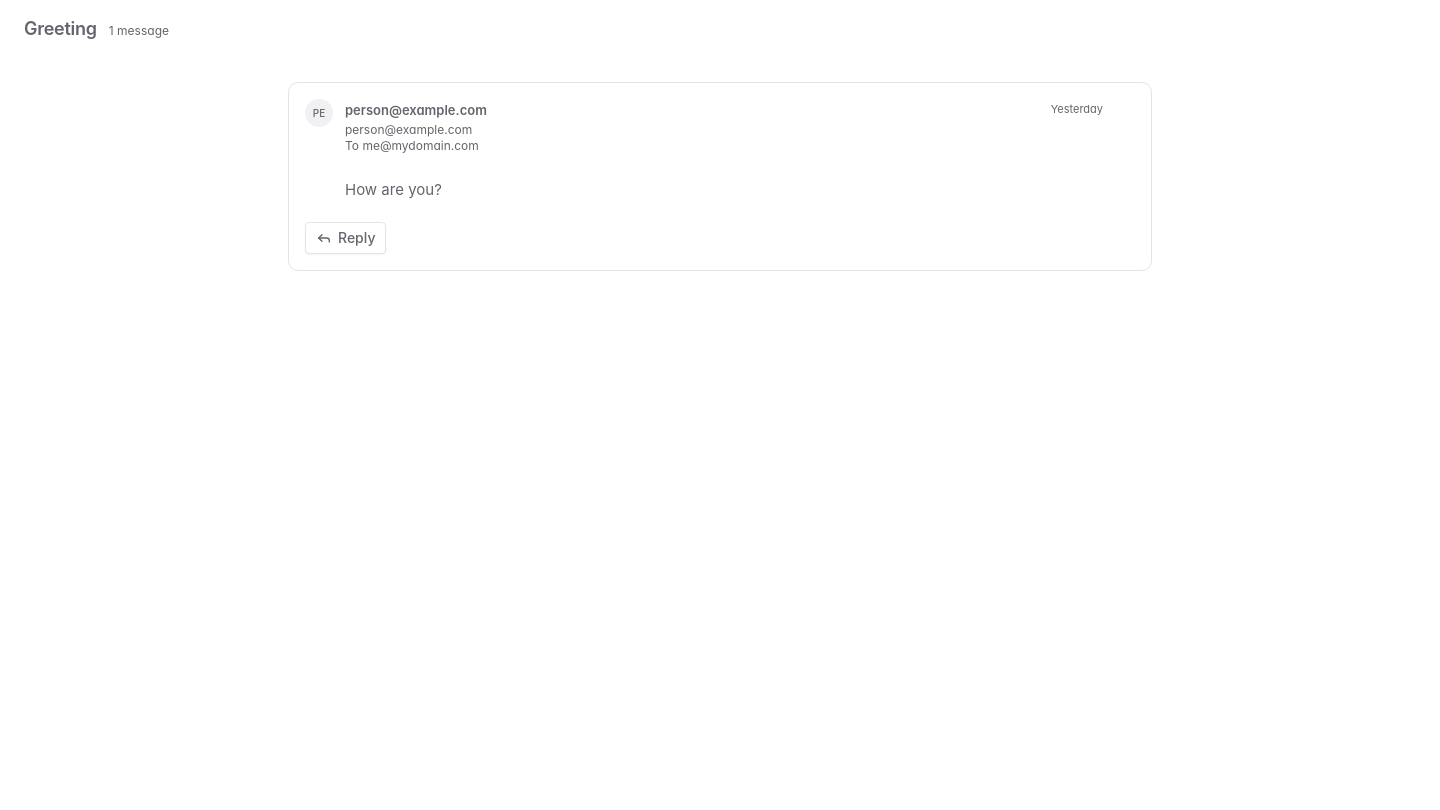
Test: conversation reading and replying › replies inline, sends threading headers, and returns the sent message to the same conversation
Later steps or results of the test are not shown.
Check: the text "How are you?" is shown, box [345,180,442,199]
Click the button "Reply" at (346, 238), box [305,222,386,254]
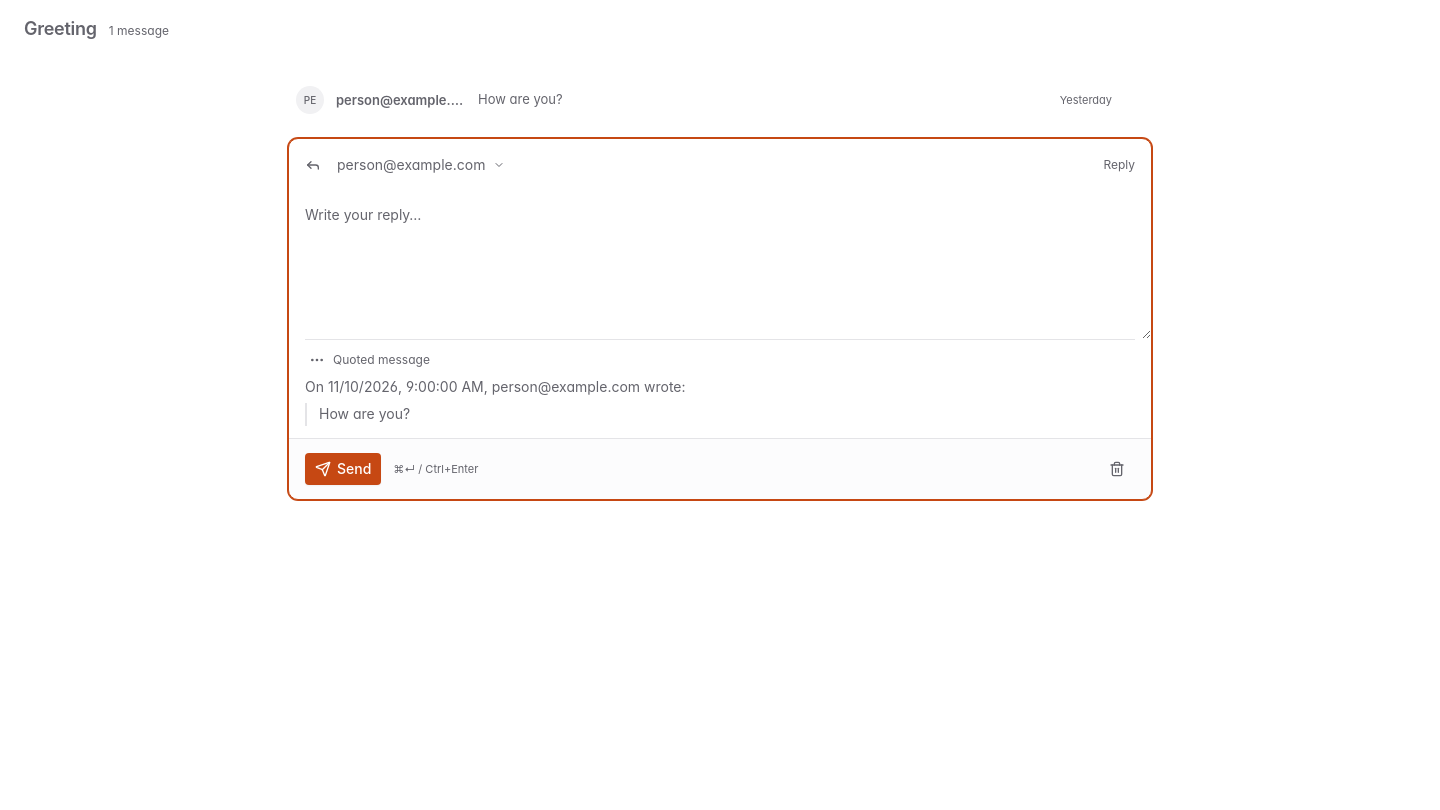
Check: the field labelled "From" is not shown
Check: the element named "Quoted original message" shows "How are you?", box [319,405,410,422]
Click the button with aria-label "Edit reply details" at (421, 165), box [333,151,509,179]
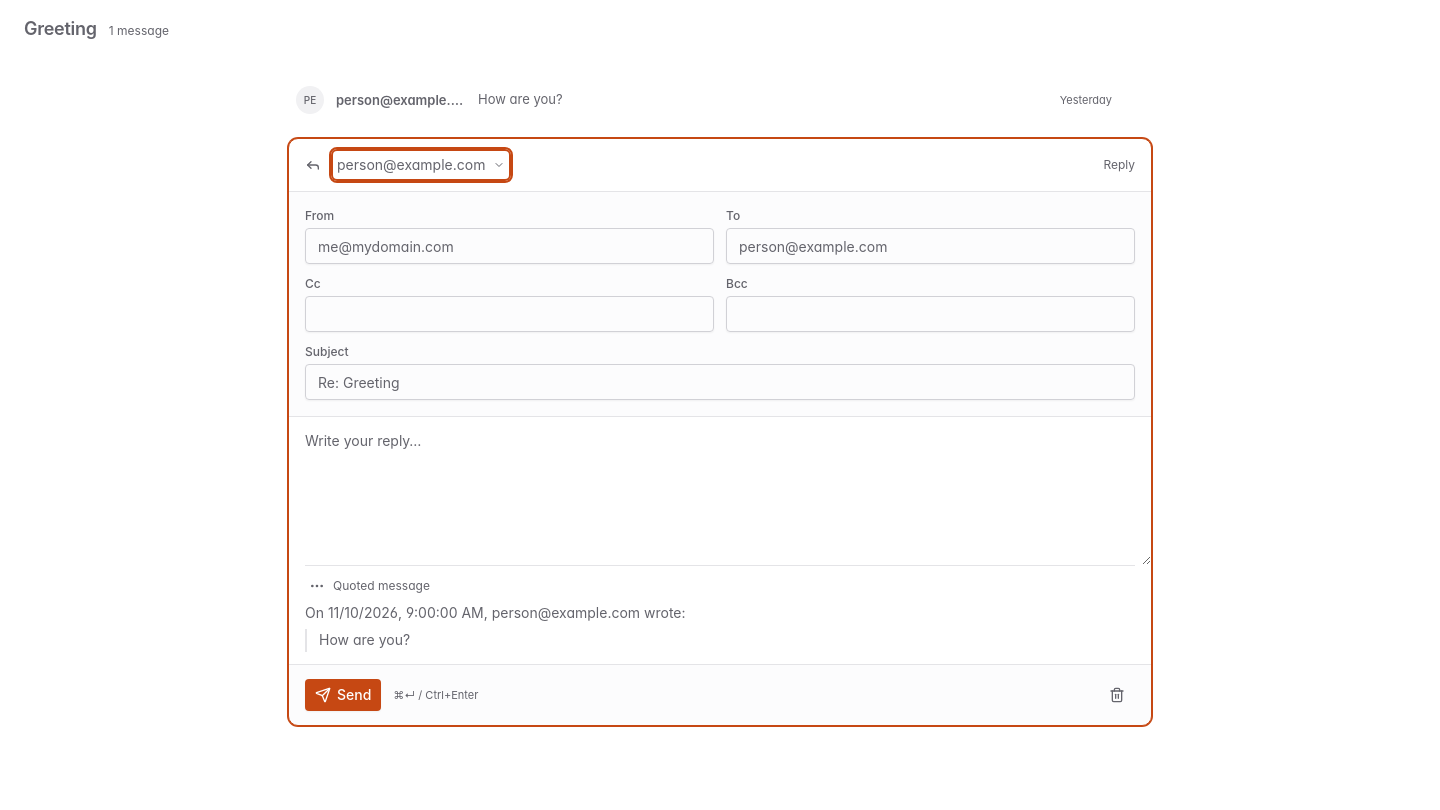
Check: the element named "Quoted original message" shows "How are you?", box [319,631,410,648]
Check: the field labelled "To" holds "person@example.com", box [726,228,1135,264]
Check: the field labelled "From" holds "me@mydomain.com", box [305,228,714,264]
